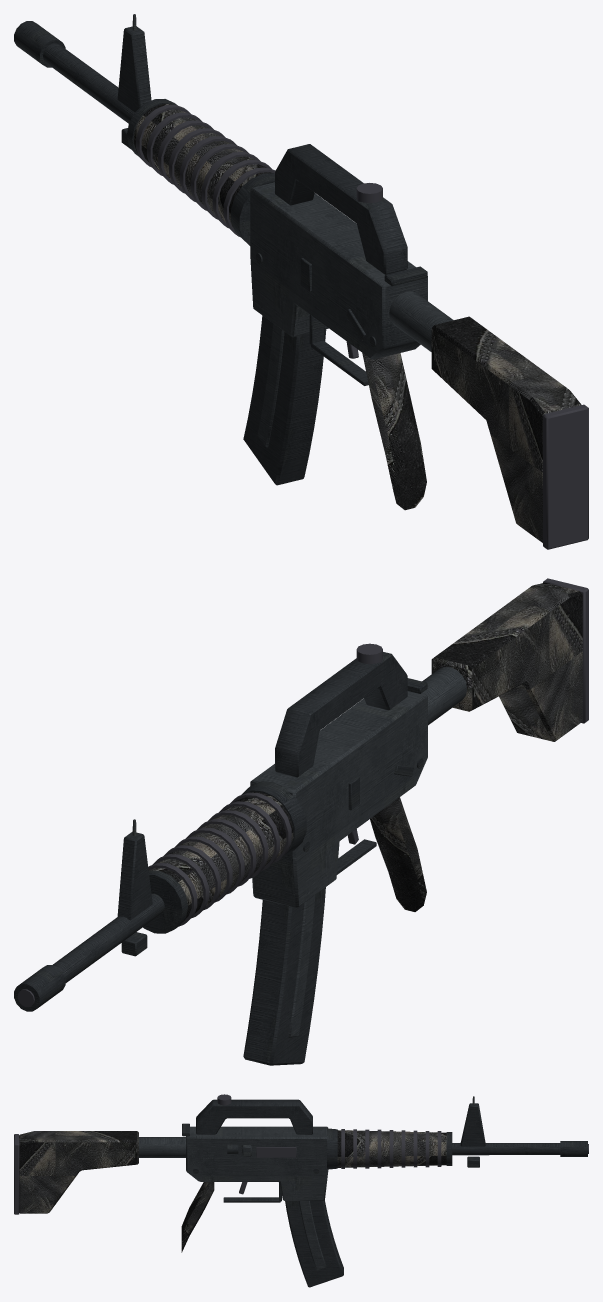
The picture shows the model from 3 angles, top to bottom: view 1: azimuth 30°, elevation 25°; view 2: azimuth 150°, elevation 25°; view 3: azimuth 270°, elevation 25°; orthographic projection. The views are drawn at different scales.
Visible parts, largest first — view 1: receiver, stock, magazine_body, carry_handle, buttpad, grip, handguard, barrel, front_sight, buffer, magazine_rib, delta_ring (+2 smaller); view 2: receiver, stock, magazine_body, carry_handle, handguard, grip, barrel, front_sight, hg_cap, buffer, magazine_rib, flash_hider (+5 smaller); view 3: receiver, stock, handguard, carry_handle, magazine_body, barrel, buffer, grip, front_sight, magazine_rib, buttpad, port (+3 smaller).
Part boxes in pixels (x1,y1,x2,y2): receiver: [250, 182, 427, 359]; stock: [431, 316, 581, 542]; magazine_body: [243, 315, 326, 485]; carry_handle: [275, 144, 407, 274]; buttpad: [543, 404, 588, 549]; grip: [362, 353, 426, 510]; handguard: [133, 103, 272, 228]; barrel: [43, 43, 134, 123]; front_sight: [117, 26, 151, 111]; buffer: [389, 291, 453, 351]; magazine_rib: [257, 323, 284, 447]; delta_ring: [231, 173, 274, 245]; receiver: [250, 691, 427, 907]; stock: [431, 582, 582, 741]; magazine_body: [243, 887, 325, 1065]; carry_handle: [275, 652, 407, 777]; handguard: [148, 792, 293, 922]; grip: [370, 797, 426, 911]; barrel: [53, 893, 164, 982]; front_sight: [117, 831, 152, 920]; hg_cap: [143, 870, 187, 933]; buffer: [422, 667, 467, 725]; magazine_rib: [288, 895, 315, 1037]; flash_hider: [14, 965, 65, 1011]; receiver: [186, 1126, 328, 1200]; stock: [19, 1131, 138, 1213]; handguard: [337, 1130, 446, 1167]; carry_handle: [196, 1099, 312, 1134]; magazine_body: [285, 1200, 343, 1287]; barrel: [452, 1143, 560, 1155]; buffer: [139, 1137, 185, 1157]; grip: [181, 1182, 214, 1252]; front_sight: [460, 1103, 485, 1146]; magazine_rib: [299, 1201, 326, 1270]; buttpad: [14, 1134, 19, 1214]; port: [256, 1147, 296, 1157].
Size of the model in its own units: 2.48 by 12.38 by 34.37.
5 materials, 4 textured.
